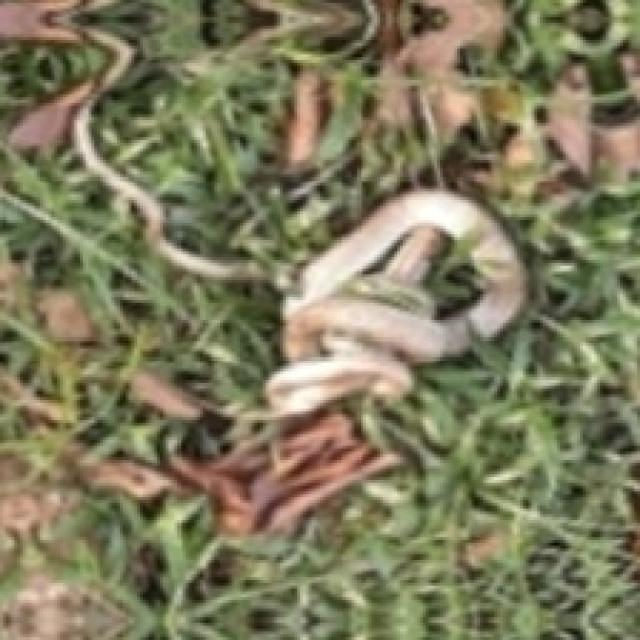paradise tree snake: (0, 0, 526, 551), (266, 189, 526, 414)
